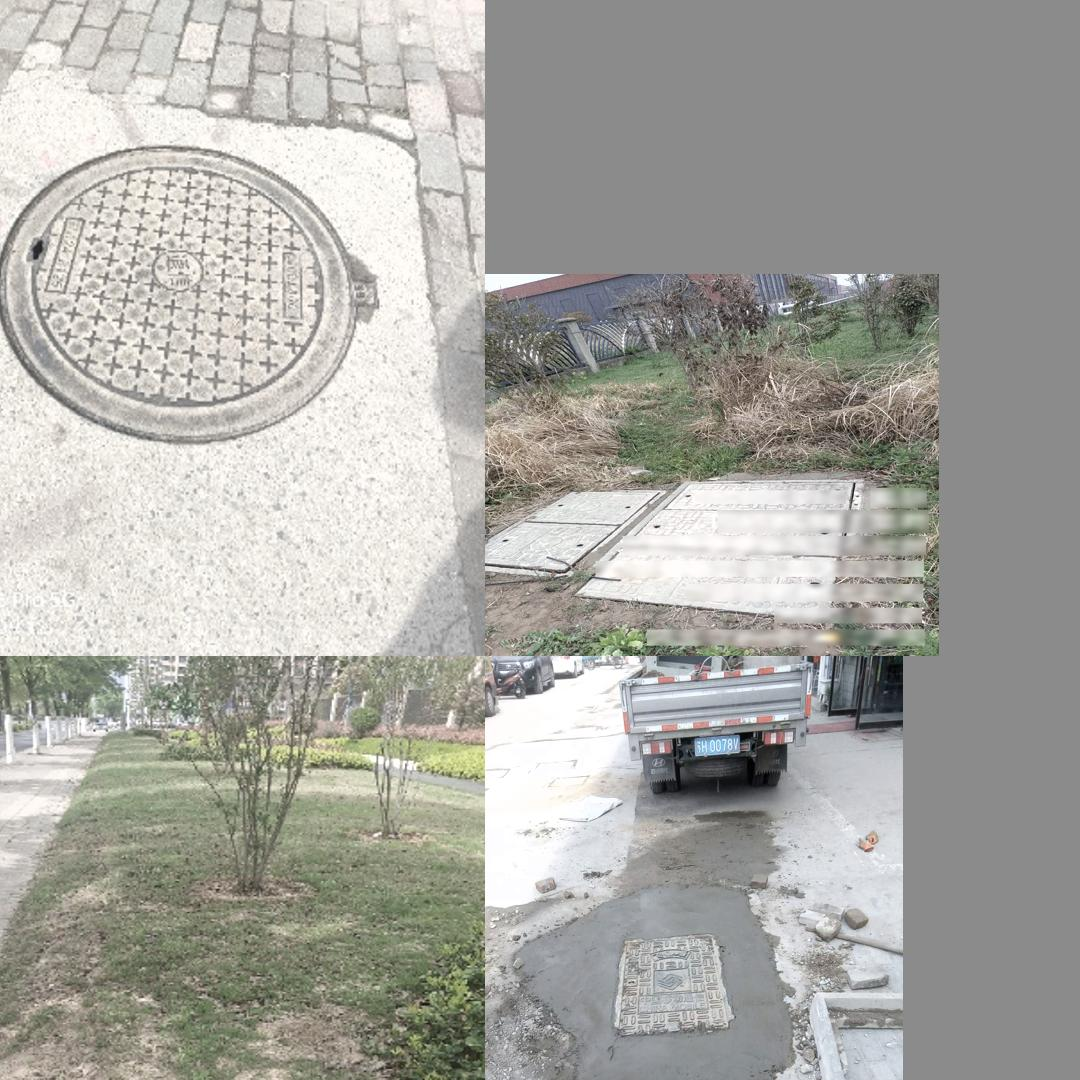good: (0, 145, 377, 443), (571, 478, 865, 619), (485, 489, 664, 577), (613, 934, 731, 1038)
